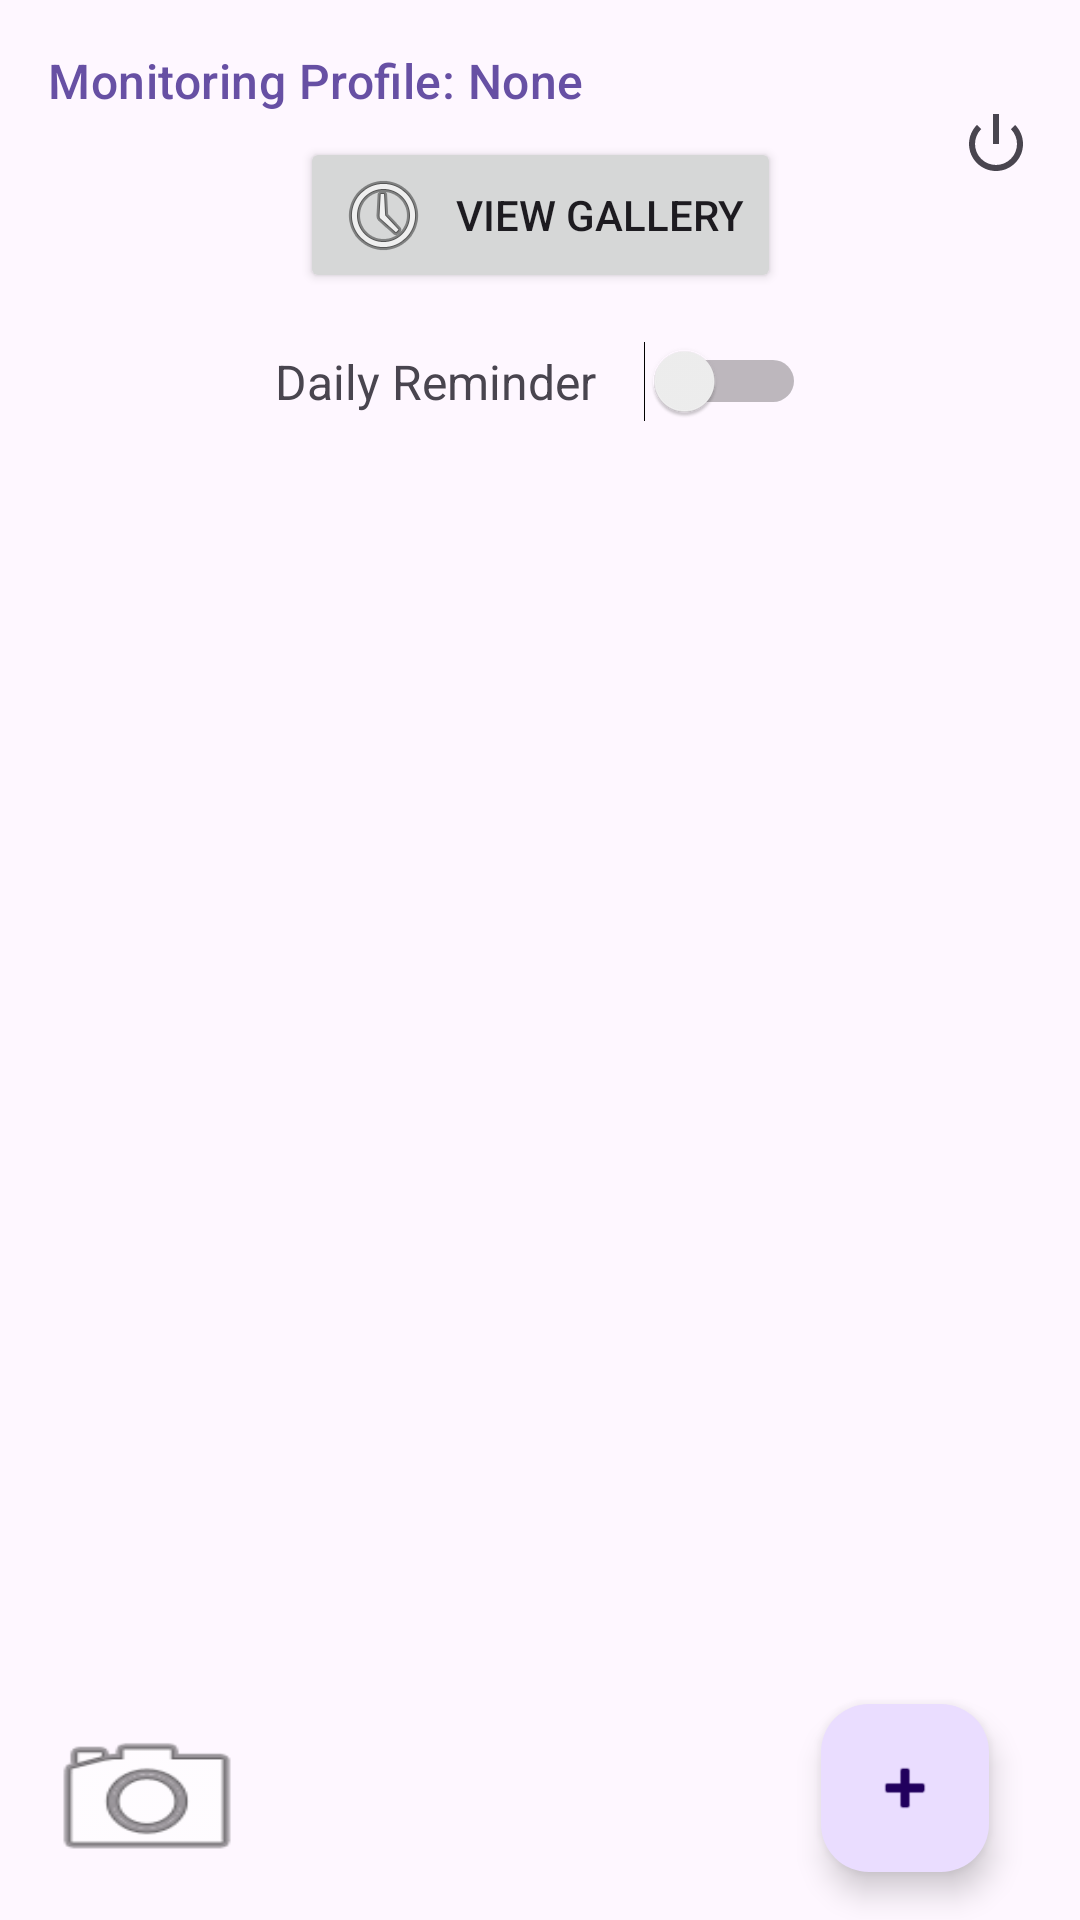

Named icons in this screenshot (1080 × 1920) and their centers, [x,y]:
Add Vegetation: [905,1788]
